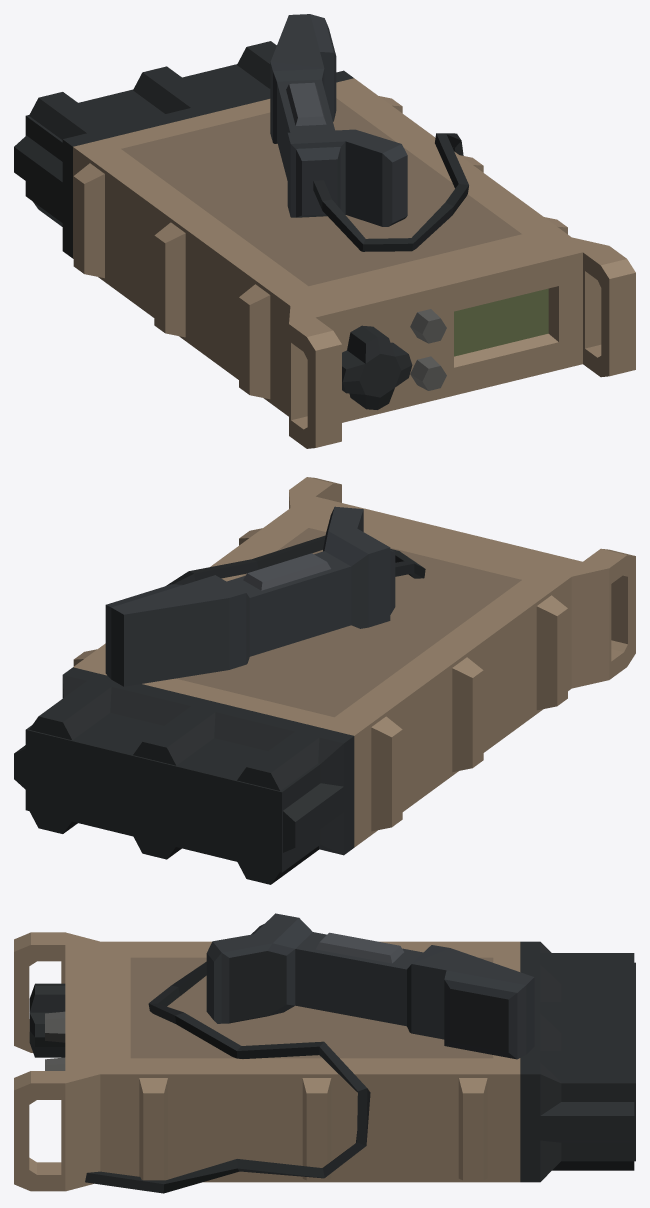
The model's file is SM_Prop_Radio_01.glb.
3 views of the same model, one above another, from view 1: azimuth 30°, elevation 25°; view 2: azimuth 150°, elevation 25°; view 3: azimuth 270°, elevation 25° (orthographic). The views are drawn at different scales.
Visible parts, largest first — view 1: SM_Prop_Radio_01; view 2: SM_Prop_Radio_01; view 3: SM_Prop_Radio_01.
Boxes of the visible parts, x1,y1,x2,y2 form: SM_Prop_Radio_01: [14, 14, 635, 448]; SM_Prop_Radio_01: [14, 477, 635, 884]; SM_Prop_Radio_01: [14, 913, 635, 1193].
Size of the model in its own units: 0.3699 by 0.1995 by 0.6155.
Materials: 1 (1 with a texture image).
